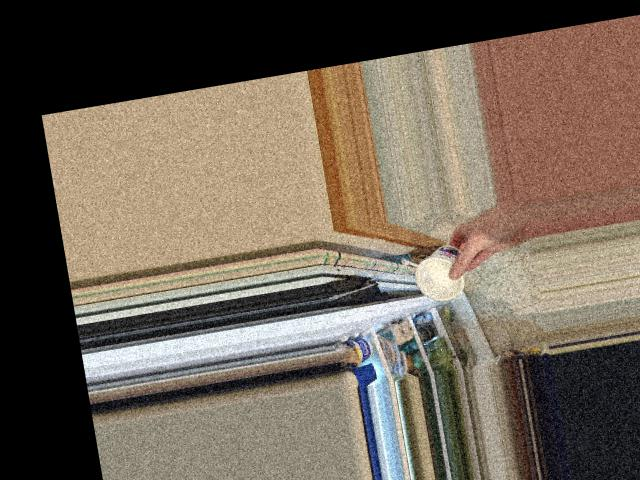cotage: (405, 239, 474, 306)
